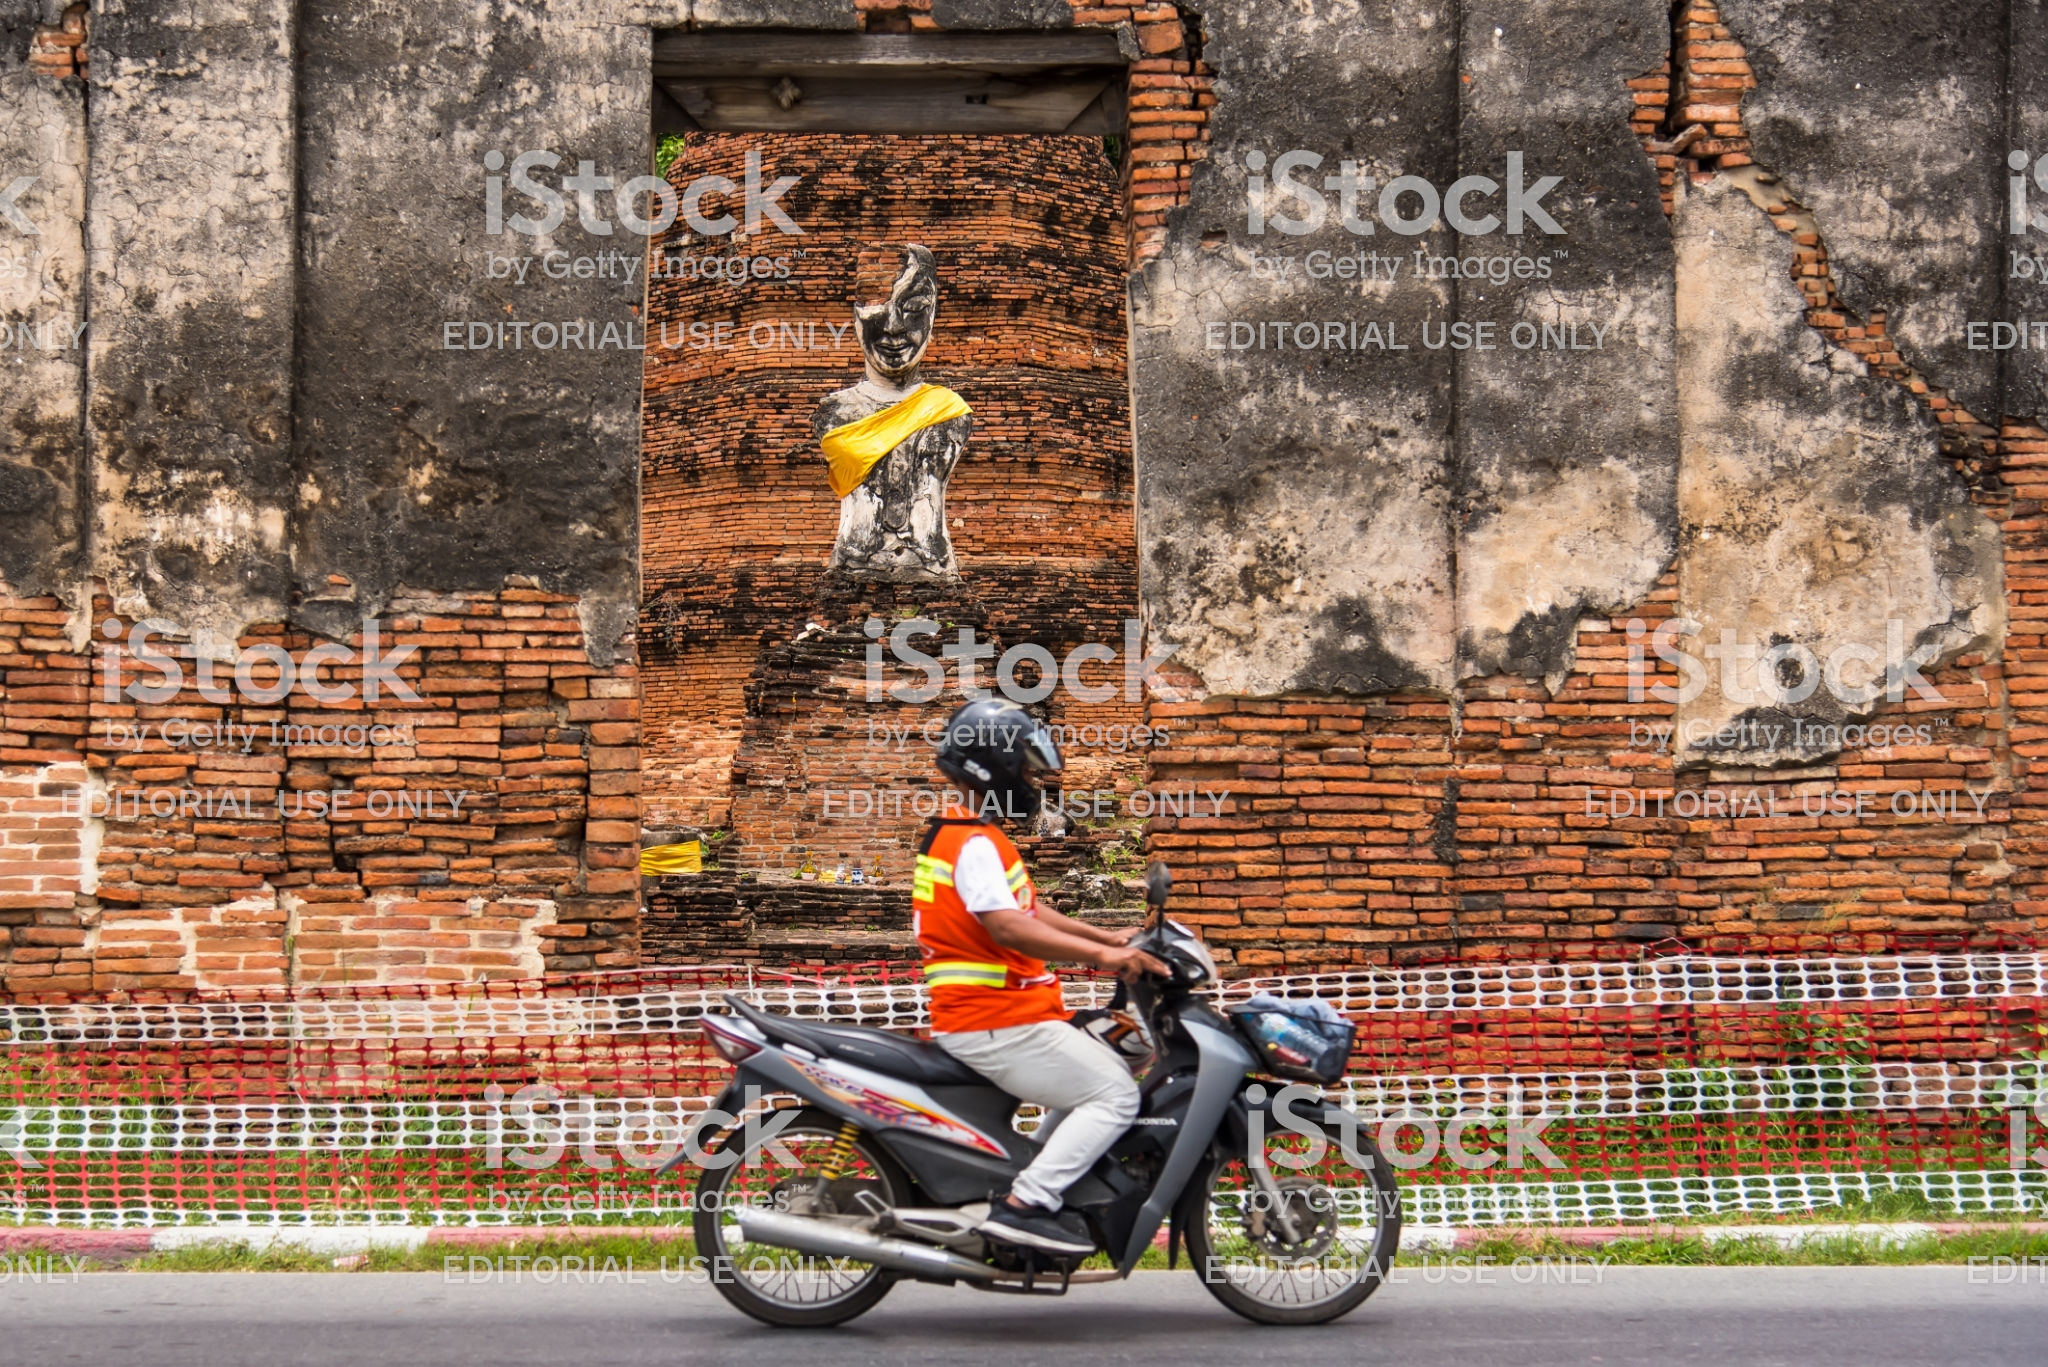helmet: (915, 683, 1051, 825)
